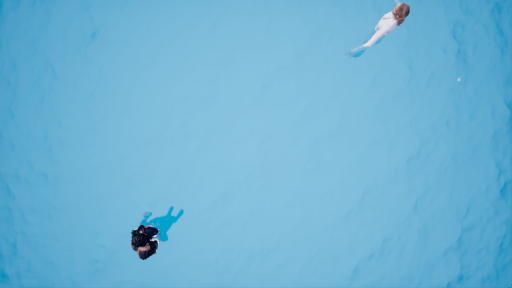person: (346, 1, 412, 57), (119, 204, 189, 256)
